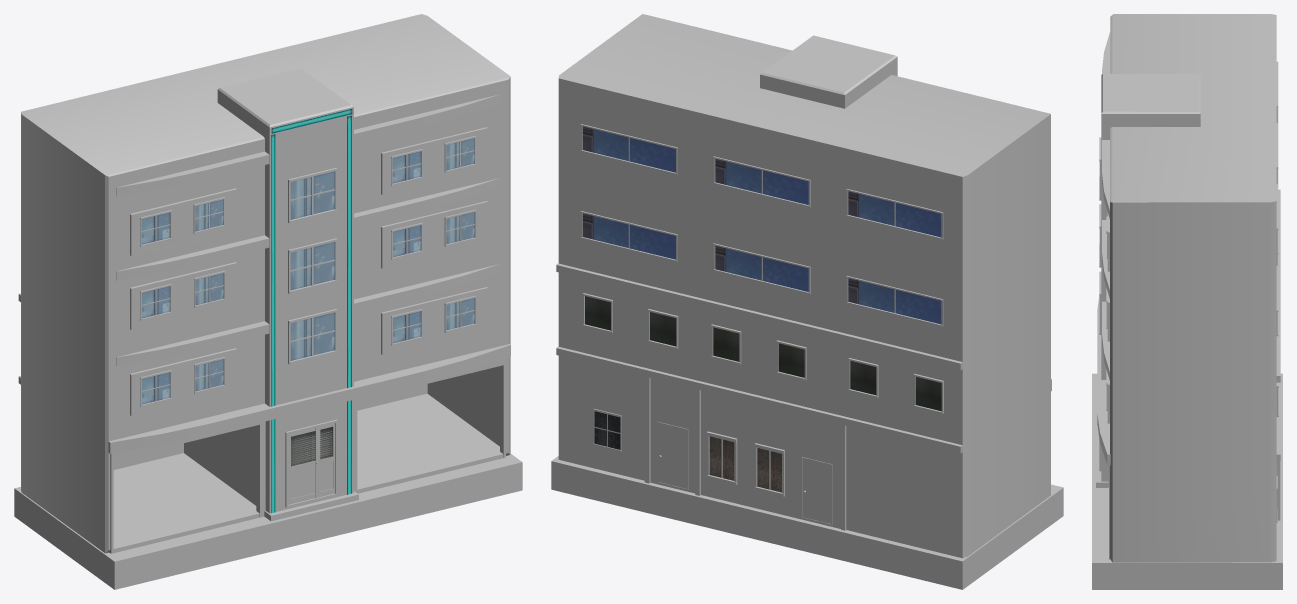
The model's file is bldg_mall_01a.fbx.
3 views of the same model, side by side, from view 1: azimuth 30°, elevation 25°; view 2: azimuth 150°, elevation 25°; view 3: azimuth 270°, elevation 25° (orthographic). The views are drawn at different scales.
Parts seen in each view (by area): view 1: bldg_mall_01a; view 2: bldg_mall_01a; view 3: bldg_mall_01a.
Part boxes in pixels (x1=…): bldg_mall_01a: x1=14, y1=14, x2=522, y2=589; bldg_mall_01a: x1=551, y1=14, x2=1063, y2=589; bldg_mall_01a: x1=1092, y1=14, x2=1282, y2=589.
Bounding box in the file's own units: 14.37 × 14.18 × 6.11.
